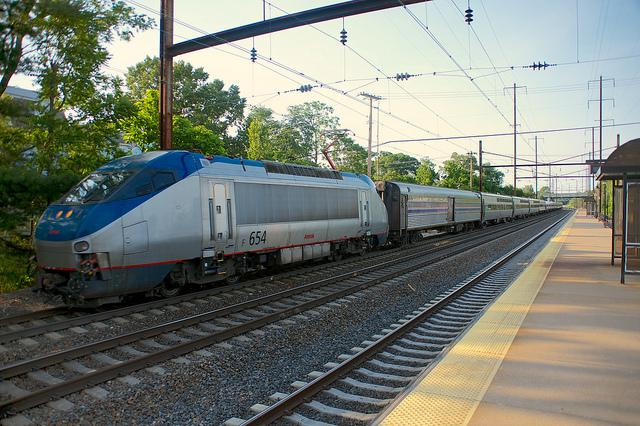Train: (31, 149, 570, 316)
